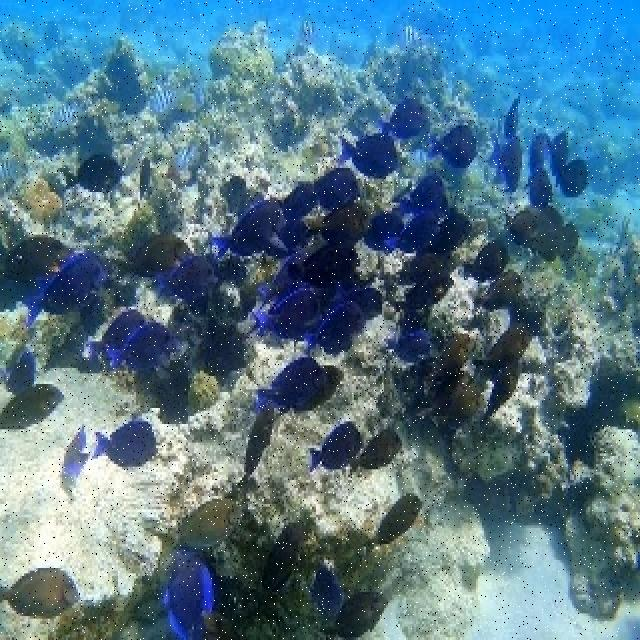fish: (25, 252, 108, 328), (146, 497, 242, 551), (258, 357, 345, 415), (160, 555, 214, 637), (91, 306, 155, 372), (1, 567, 81, 618), (114, 230, 194, 280), (213, 198, 279, 256), (111, 319, 176, 377), (253, 288, 325, 338), (308, 201, 374, 251), (308, 290, 368, 345), (1, 382, 66, 432), (293, 243, 363, 289), (239, 399, 273, 493), (369, 494, 424, 551), (154, 256, 220, 303), (472, 321, 534, 370), (93, 421, 156, 468), (340, 131, 401, 179), (263, 525, 303, 598), (332, 588, 393, 635), (311, 422, 362, 471), (59, 153, 123, 192), (431, 119, 481, 168), (395, 272, 456, 312), (417, 211, 474, 252), (482, 365, 520, 425), (432, 334, 479, 382), (383, 211, 439, 251), (485, 132, 520, 193), (315, 168, 362, 211), (259, 252, 297, 305), (464, 239, 509, 283), (405, 172, 448, 215), (476, 269, 525, 306), (381, 98, 425, 139), (402, 251, 461, 281), (359, 431, 401, 471), (505, 207, 545, 245), (383, 331, 434, 358), (556, 156, 588, 199), (366, 214, 402, 251), (285, 182, 318, 217), (49, 103, 88, 131), (531, 169, 556, 207), (550, 129, 566, 177), (2, 162, 23, 198), (151, 85, 175, 114), (530, 131, 544, 175), (504, 94, 518, 137), (399, 23, 421, 48), (297, 18, 315, 42), (174, 144, 188, 174), (140, 160, 147, 207)
